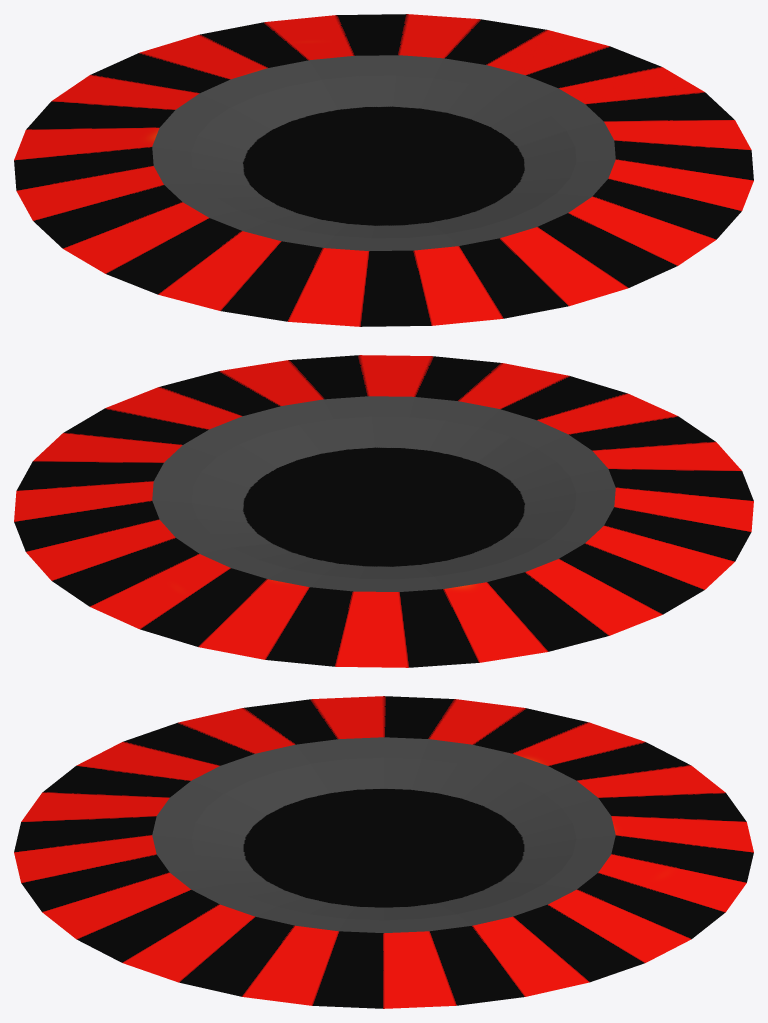
Rendered from hole.fbx.
3 views of the same model, one above another, from view 1: azimuth 30°, elevation 25°; view 2: azimuth 150°, elevation 25°; view 3: azimuth 270°, elevation 25° (orthographic).
Parts seen in each view (by area): view 1: Cylinder; view 2: Cylinder; view 3: Cylinder.
Part boxes in pixels (left/top/right/bottom): Cylinder: left=14, top=14, right=753, bottom=326; Cylinder: left=14, top=355, right=753, bottom=667; Cylinder: left=14, top=696, right=753, bottom=1008.
Bounding box in the file's own units: 319 × 8.22 × 319.
